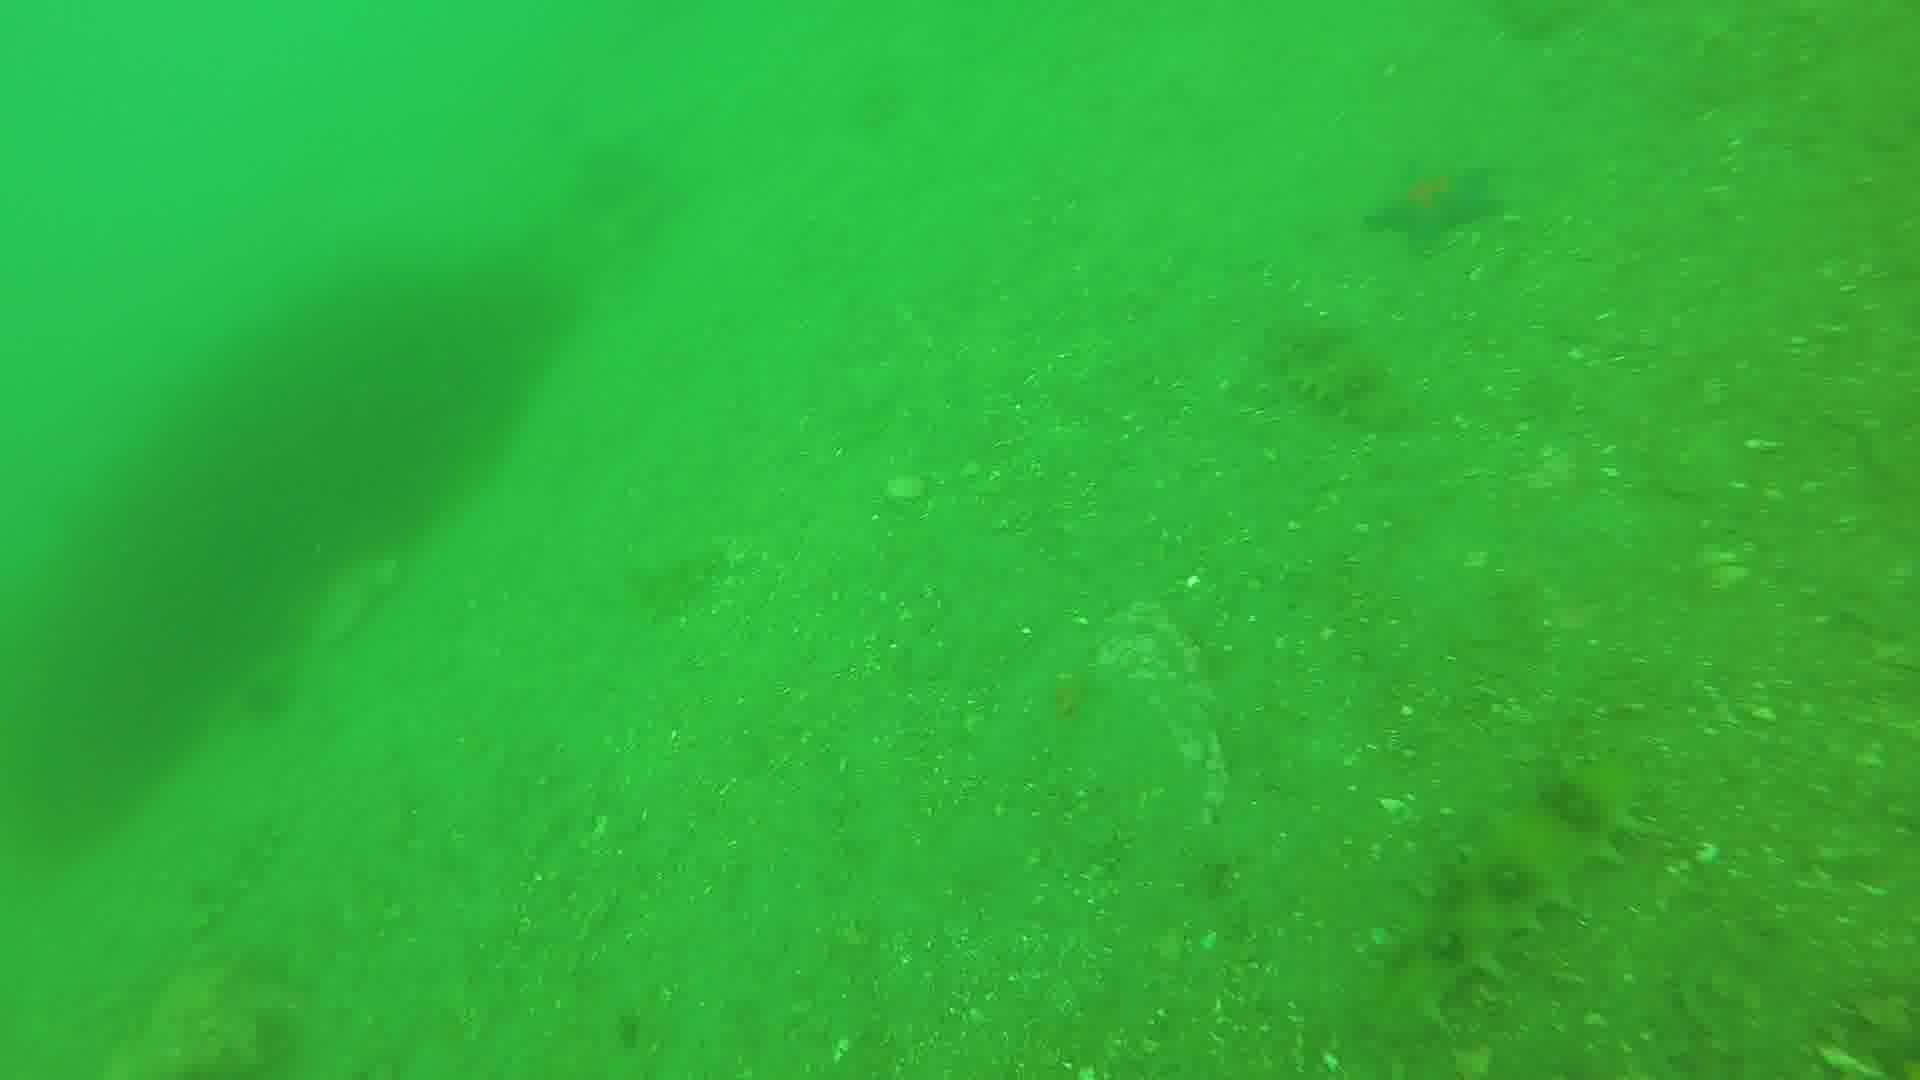holothurian: (1364, 752, 1651, 1052), (1266, 315, 1410, 436)
starfish: (1367, 162, 1511, 251)
